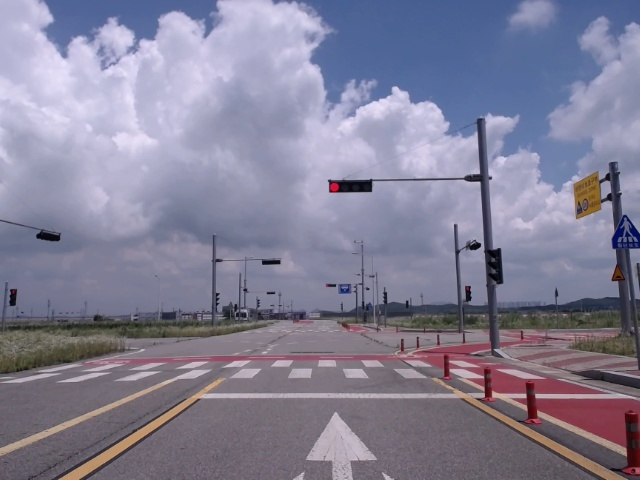red_4: (329, 180, 372, 193)
